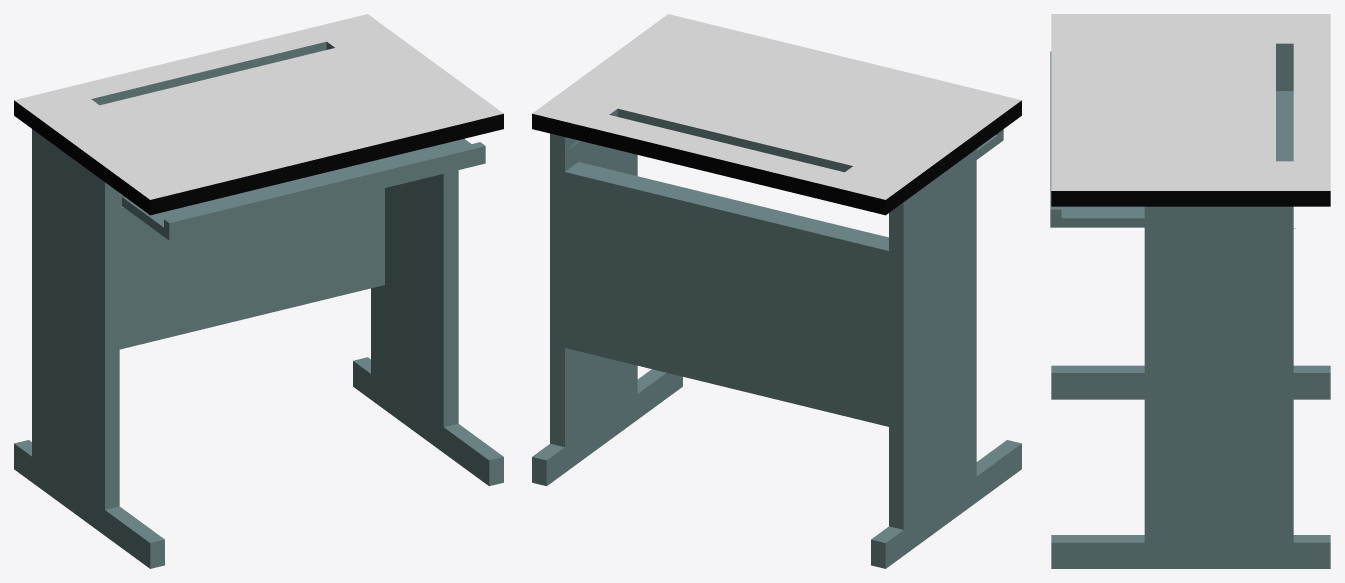
File: TableComputer.fbx
The picture shows the model from 3 angles, left to right: view 1: azimuth 30°, elevation 25°; view 2: azimuth 150°, elevation 25°; view 3: azimuth 270°, elevation 25°; orthographic projection. The views are drawn at different scales.
Parts seen in each view (by area): view 1: Cube.002; view 2: Cube.002; view 3: Cube.002.
Boxes of the visible parts, bbox=[...] form: Cube.002: bbox=[14, 14, 503, 568]; Cube.002: bbox=[532, 14, 1021, 568]; Cube.002: bbox=[1050, 14, 1330, 568].
Size of the model in its own units: 1.2 by 1.2 by 0.8033.
